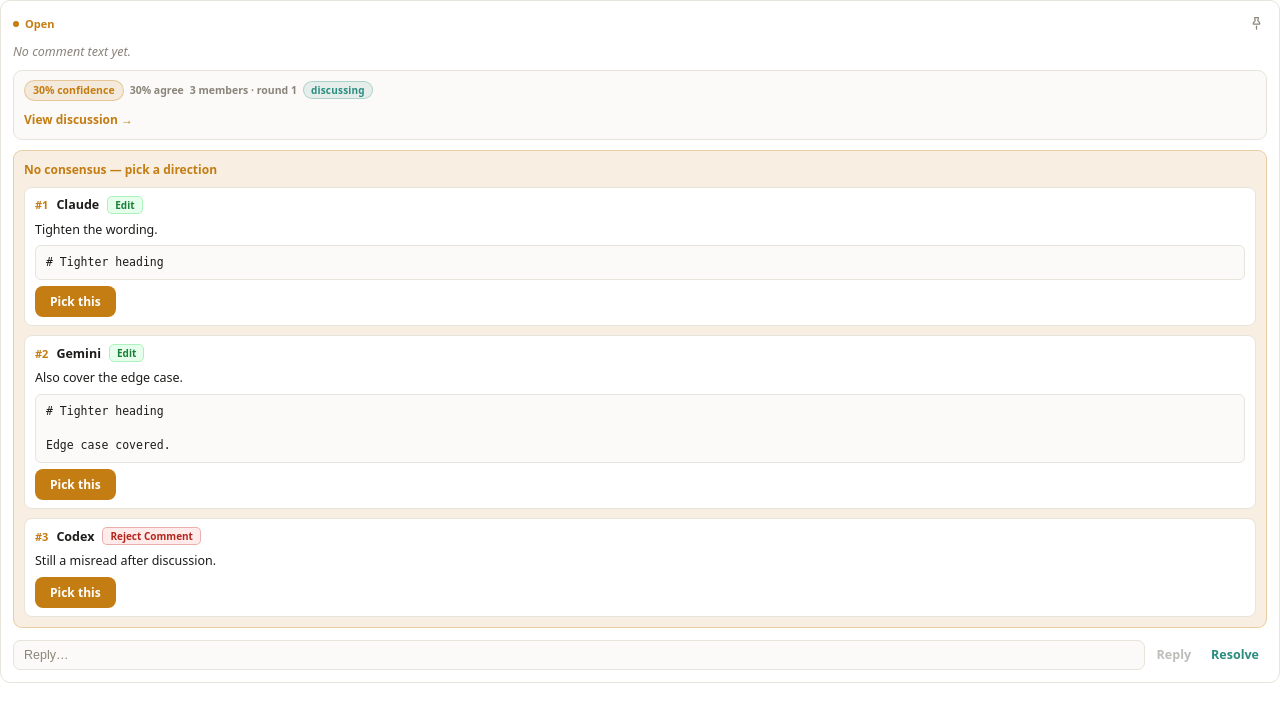
Test: deadlock / no-consensus pick cards › surfaces the server message on a failed pick and keeps the cards
Click the button with class "council-pick-btn" below "Tighten the wording.": {"x": 75, "y": 302} [35, 286, 116, 317]
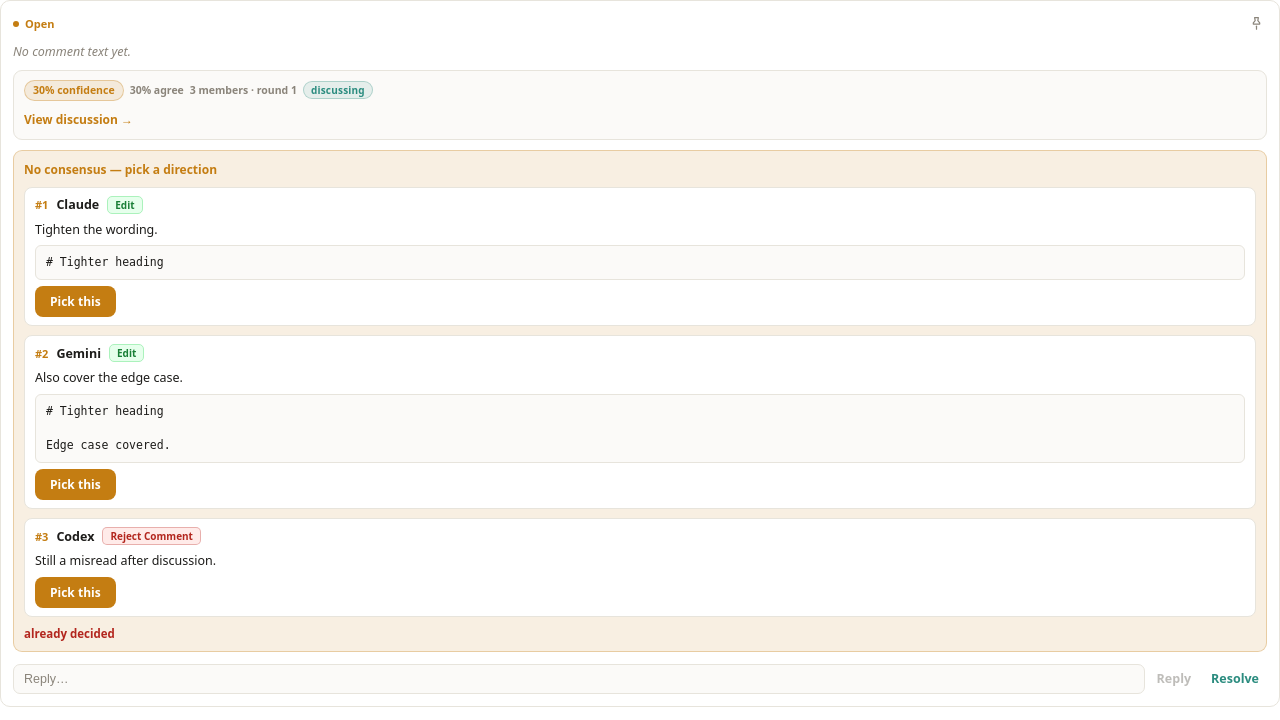
Expected: the number of elements with class "council-option" is 3, [24, 186, 1256, 326]; [24, 335, 1256, 509]; [24, 518, 1256, 617]
Now the message with class "council-pick-error" reads "already decided", box [24, 626, 115, 641]
